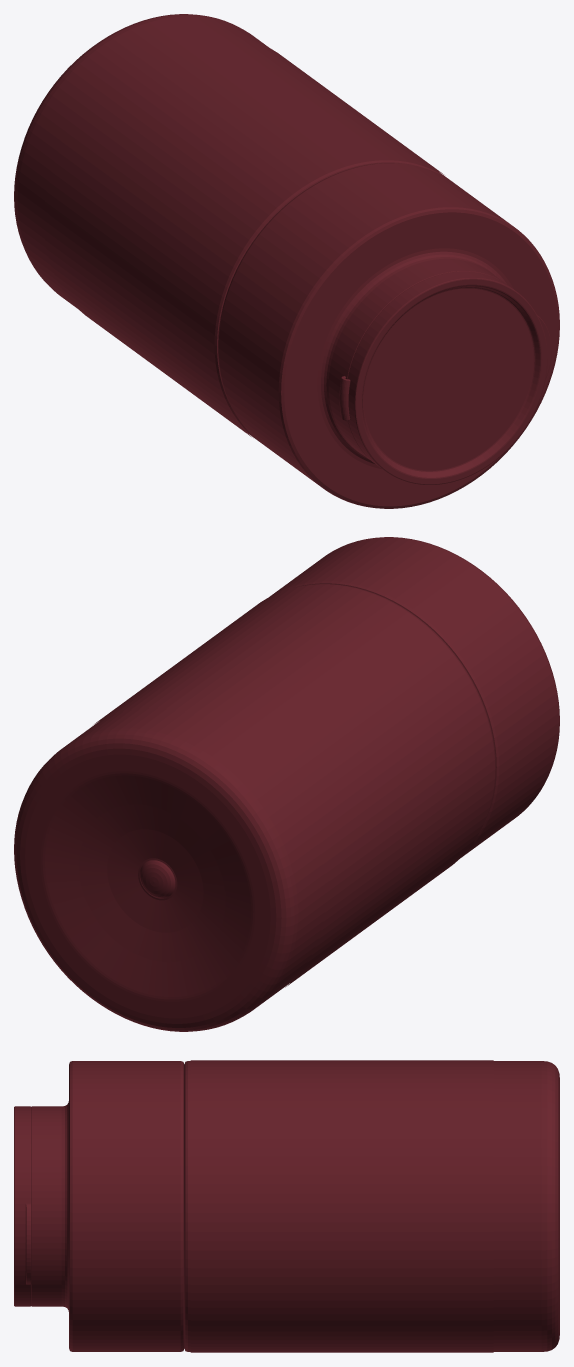
File: medicine_b01.glb
3 views of the same model, one above another, from view 1: azimuth 30°, elevation 25°; view 2: azimuth 150°, elevation 25°; view 3: azimuth 270°, elevation 25° (orthographic). The views are drawn at different scales.
Visible parts, largest first — view 1: body_01_mesh_00_0; view 2: body_01_mesh_00_0; view 3: body_01_mesh_00_0.
Part boxes in pixels (left/top/right/bottom): body_01_mesh_00_0: left=14, top=14, right=559, bottom=508; body_01_mesh_00_0: left=14, top=537, right=559, bottom=1031; body_01_mesh_00_0: left=14, top=1060, right=559, bottom=1352.
Bounding box in the file's own units: 0.0803 × 0.0804 × 0.15.
